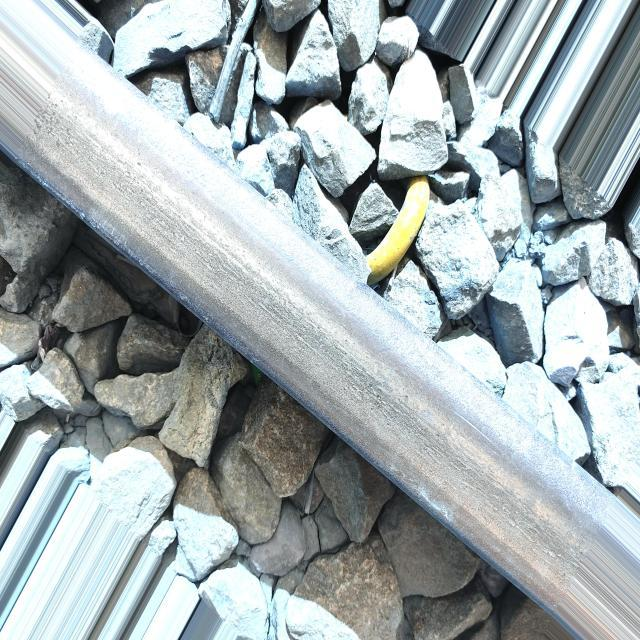Good Fasteners: (367, 176, 430, 285)
